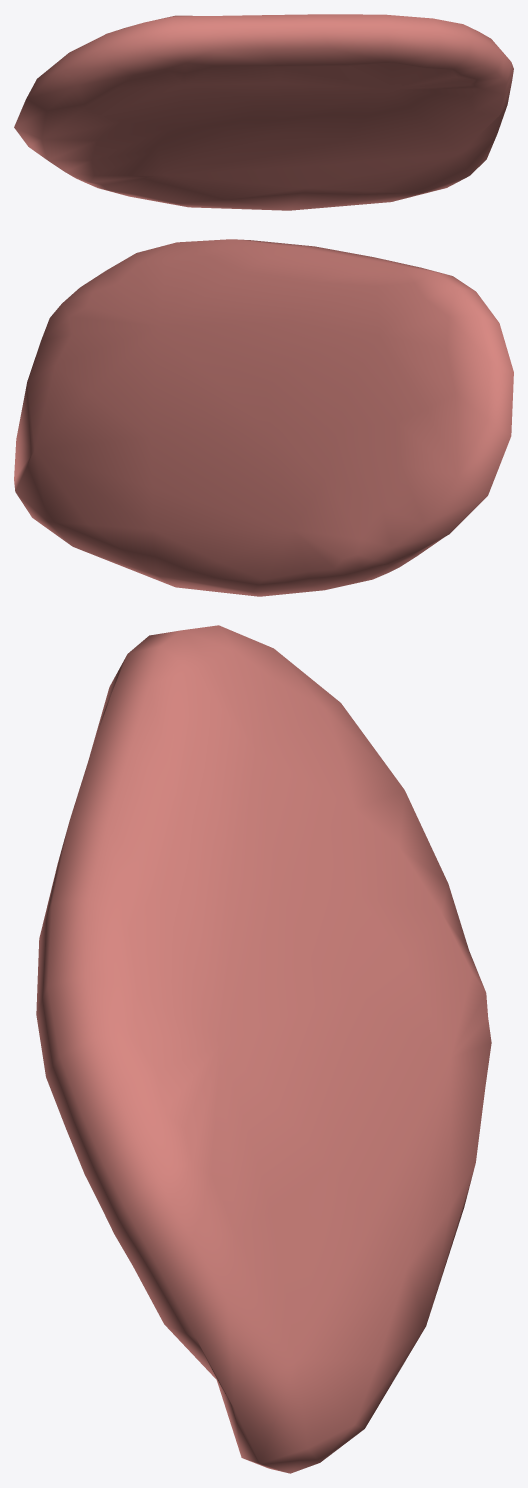
3 views of the same model, one above another, from view 1: azimuth 30°, elevation 25°; view 2: azimuth 150°, elevation 25°; view 3: azimuth 270°, elevation 25° (orthographic). The views are drawn at different scales.
Visible parts, largest first — view 1: ZA_45c5c0df6940cbc7; view 2: ZA_45c5c0df6940cbc7; view 3: ZA_45c5c0df6940cbc7.
Part boxes in pixels (<box>): ZA_45c5c0df6940cbc7: <box>14,14,513,210</box>; ZA_45c5c0df6940cbc7: <box>14,239,513,596</box>; ZA_45c5c0df6940cbc7: <box>36,625,491,1473</box>.
Size of the model in its own units: 0.00468 by 0.00271 by 0.00205.
